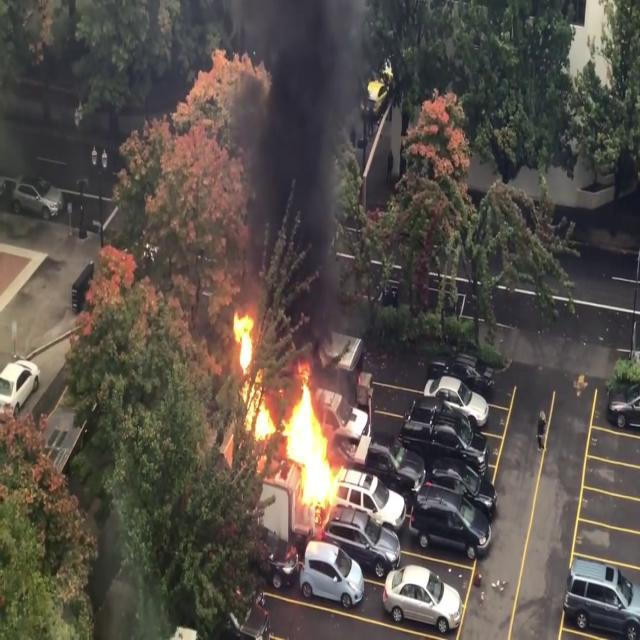Fire: (280, 369, 352, 515), (227, 306, 280, 449)
Smoke: (250, 0, 362, 347)
